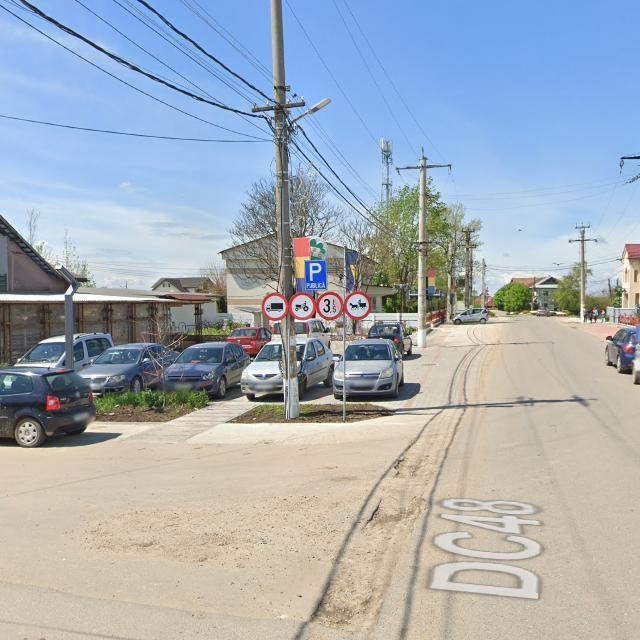forb_overtake: (262, 292, 288, 321)
